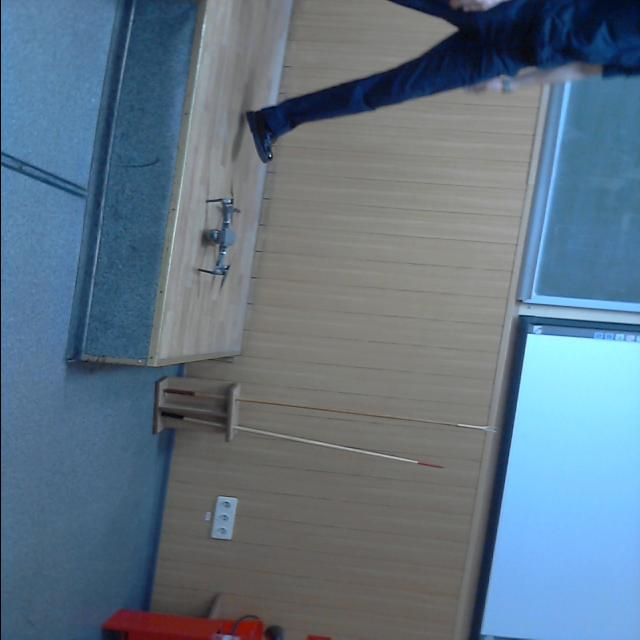drone: (184, 190, 258, 288)
